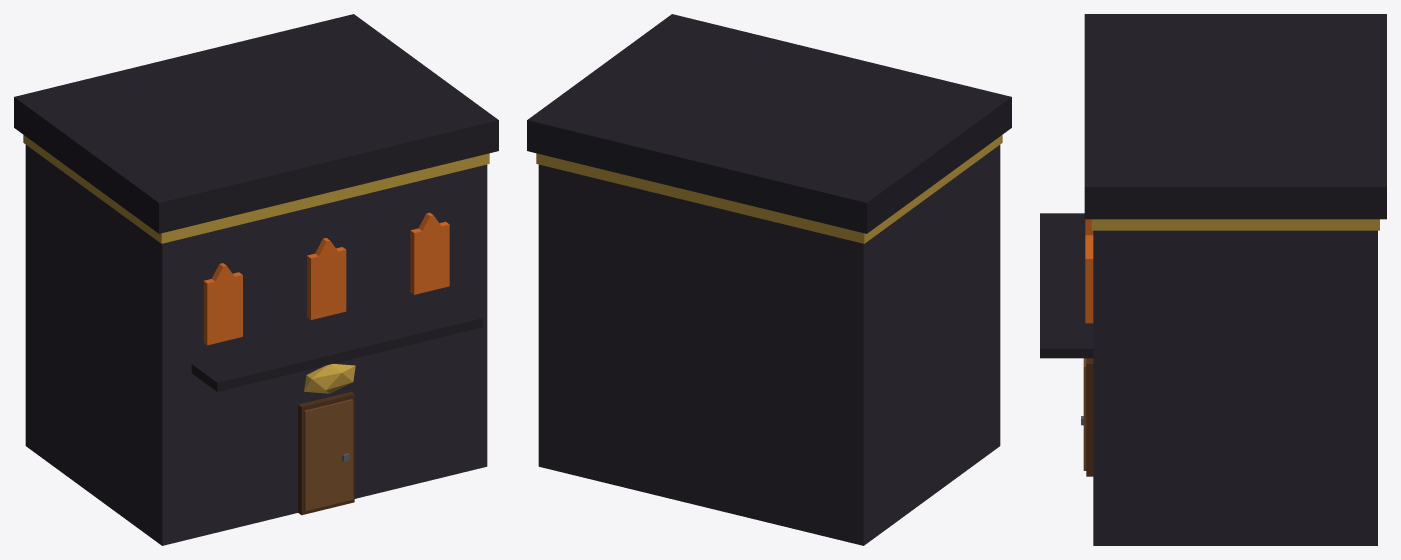
The model's file is demon_house_b_broken.glb.
3 views of the same model, side by side, from view 1: azimuth 30°, elevation 25°; view 2: azimuth 150°, elevation 25°; view 3: azimuth 270°, elevation 25° (orthographic). The views are drawn at different scales.
Visible parts, largest first — view 1: demon_house_b_piece1, demon_house_b_piece6, demon_house_b_piece10, demon_house_b_piece2, demon_house_b_piece7, demon_house_b_piece3, demon_house_b_piece5, demon_house_b_piece8, demon_house_b_piece0; view 2: demon_house_b_piece2, demon_house_b_piece4, demon_house_b_piece7, demon_house_b_piece10, demon_house_b_piece3, demon_house_b_piece9, demon_house_b_piece1, demon_house_b_piece8, demon_house_b_piece0, demon_house_b_piece5, demon_house_b_piece6; view 3: demon_house_b_piece8, demon_house_b_piece1, demon_house_b_piece9, demon_house_b_piece2, demon_house_b_piece3, demon_house_b_piece7, demon_house_b_piece6, demon_house_b_piece5, demon_house_b_piece10.
Boxes of the visible parts, x1,y1,x2,y2 form: demon_house_b_piece1: [258, 88, 498, 490]; demon_house_b_piece6: [144, 226, 388, 545]; demon_house_b_piece10: [60, 178, 224, 532]; demon_house_b_piece2: [14, 75, 265, 432]; demon_house_b_piece7: [102, 42, 267, 150]; demon_house_b_piece3: [265, 14, 375, 199]; demon_house_b_piece5: [150, 173, 266, 307]; demon_house_b_piece8: [334, 30, 454, 91]; demon_house_b_piece0: [25, 354, 74, 481]; demon_house_b_piece2: [779, 73, 979, 541]; demon_house_b_piece4: [609, 135, 835, 538]; demon_house_b_piece7: [636, 84, 850, 483]; demon_house_b_piece10: [898, 92, 1011, 509]; demon_house_b_piece3: [527, 68, 904, 389]; demon_house_b_piece9: [538, 307, 649, 493]; demon_house_b_piece1: [629, 14, 893, 88]; demon_house_b_piece8: [538, 46, 695, 323]; demon_house_b_piece0: [848, 404, 912, 545]; demon_house_b_piece5: [898, 71, 991, 112]; demon_house_b_piece6: [982, 371, 1000, 458]; demon_house_b_piece8: [1102, 138, 1377, 491]; demon_house_b_piece1: [1040, 74, 1230, 524]; demon_house_b_piece9: [1093, 397, 1377, 545]; demon_house_b_piece2: [1092, 14, 1386, 81]; demon_house_b_piece3: [1084, 68, 1386, 277]; demon_house_b_piece7: [1141, 58, 1386, 137]; demon_house_b_piece6: [1040, 213, 1093, 476]; demon_house_b_piece5: [1084, 23, 1140, 69]; demon_house_b_piece10: [1078, 14, 1150, 215].
Size of the model in its own units: 2.3 by 2.25 by 1.95.
